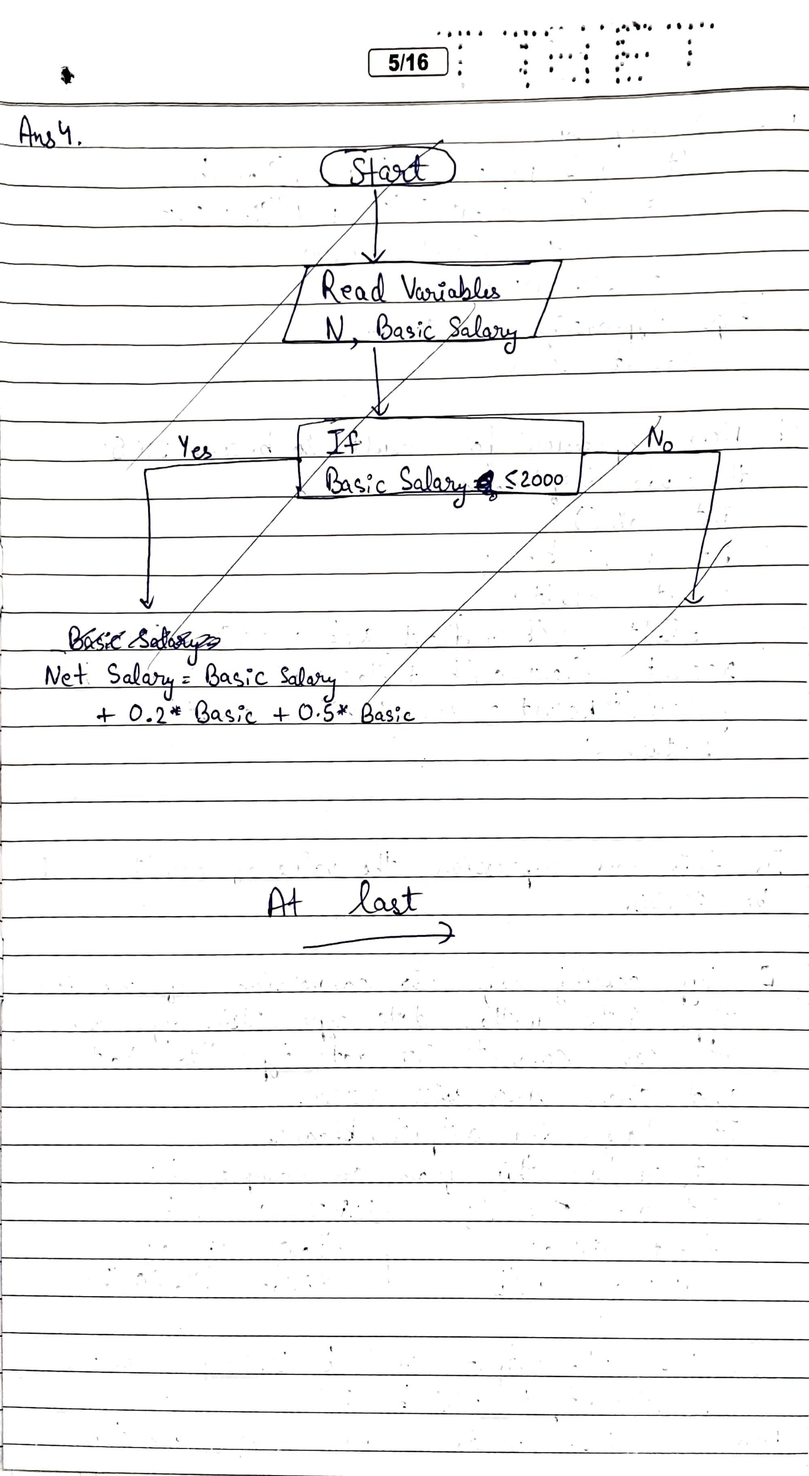cuttings: (37, 134, 739, 732)
